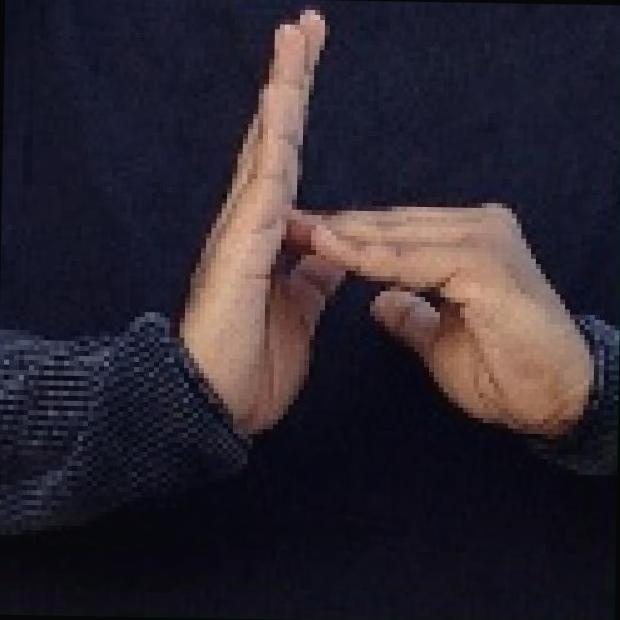Y: (181, 6, 598, 470)
